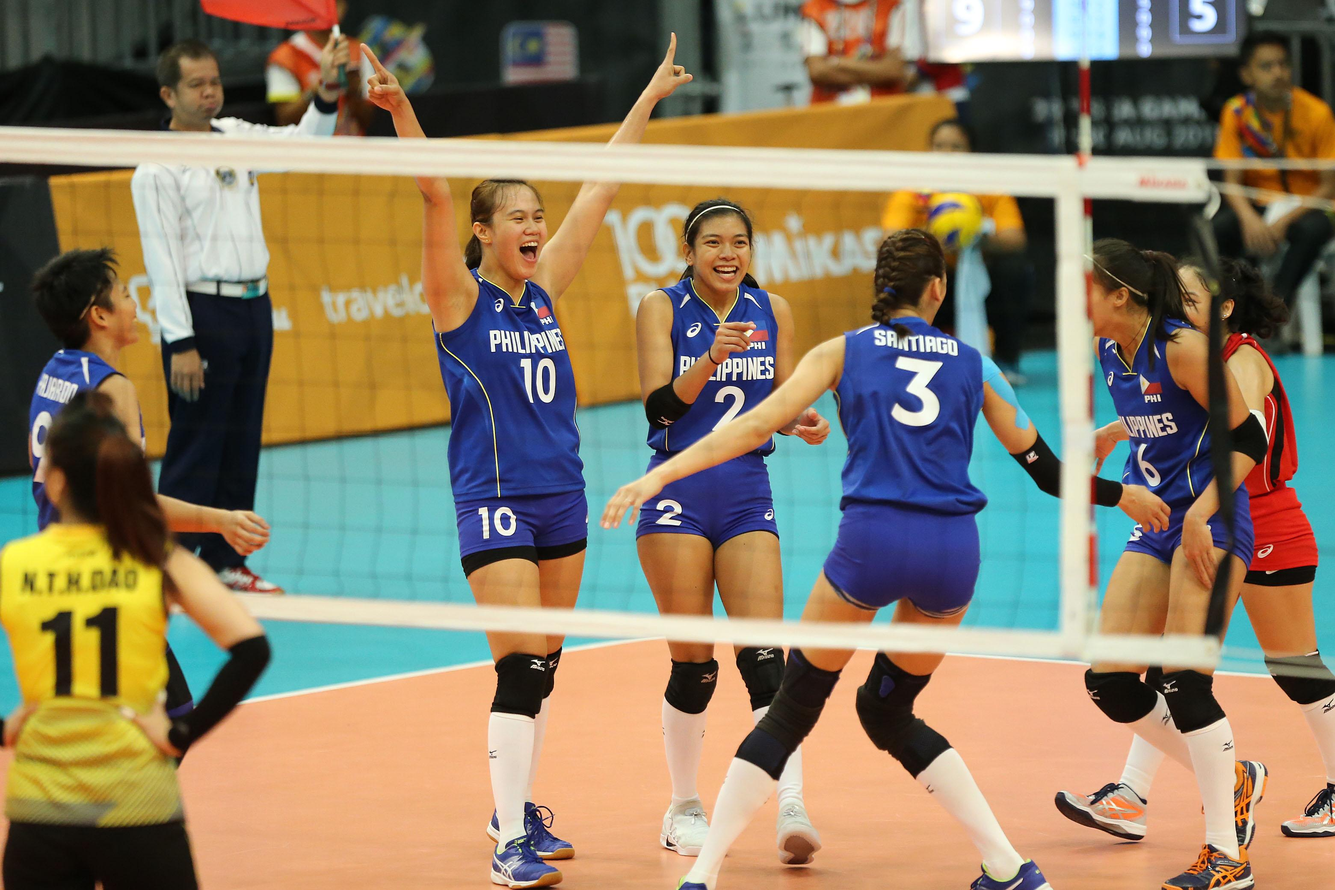ballon_volley: (921, 188, 987, 252)
